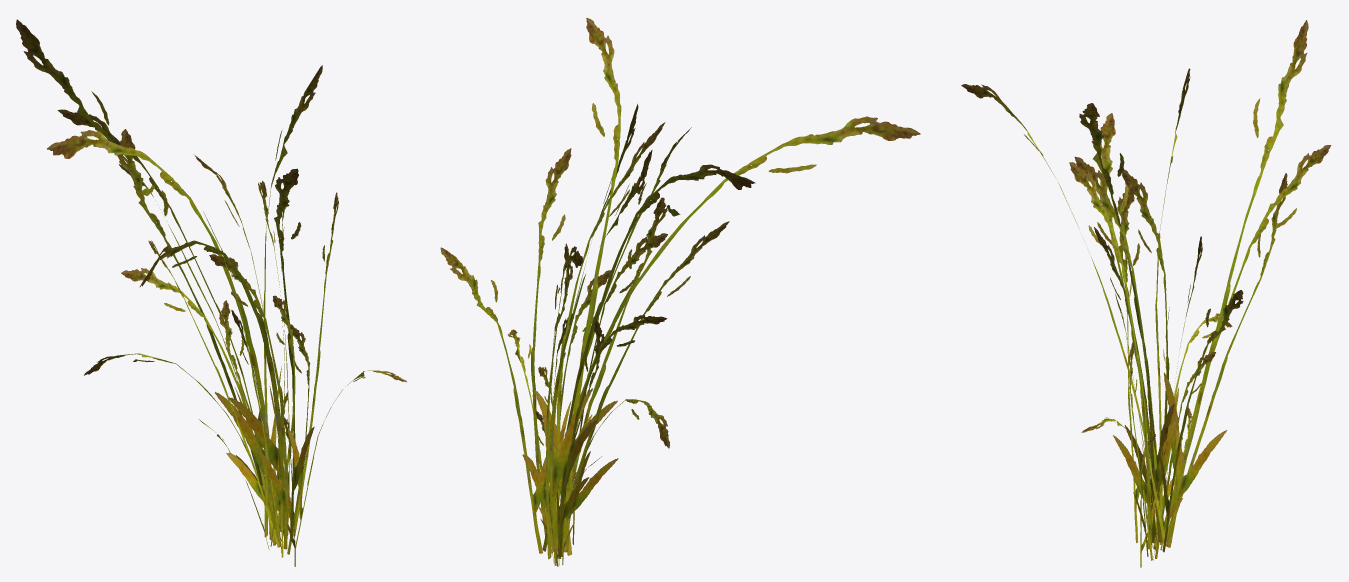
Rendered from crop.glb.
3 views of the same model, side by side, from view 1: azimuth 30°, elevation 25°; view 2: azimuth 150°, elevation 25°; view 3: azimuth 270°, elevation 25° (orthographic). The views are drawn at different scales.
Parts seen in each view (by area): view 1: body; view 2: body; view 3: body.
Boxes of the visible parts, x1,y1,x2,y2 form: body: (16, 19, 406, 566); body: (440, 18, 920, 566); body: (961, 20, 1331, 567).
Bounding box in the file's own units: 0.7081 × 1.05 × 0.7603.
1 material, 1 textured.
